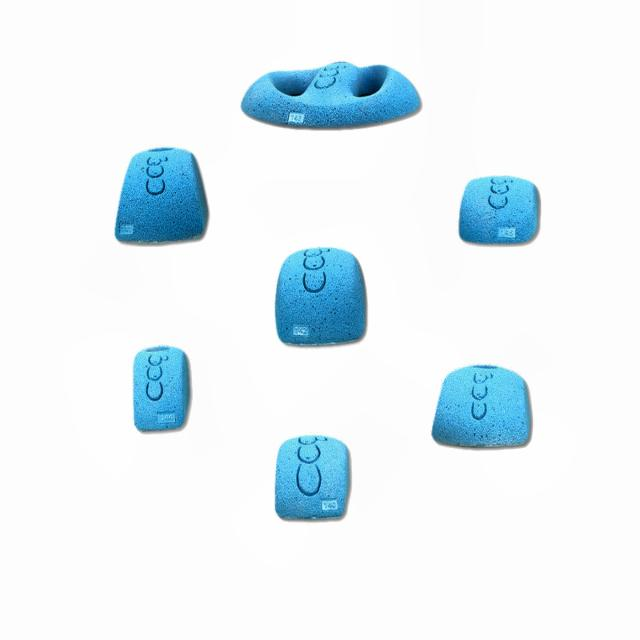Hold: (235, 66, 426, 132), (114, 144, 215, 255), (431, 360, 544, 457), (272, 247, 378, 349), (270, 434, 357, 520), (127, 344, 205, 438), (460, 176, 542, 254)
